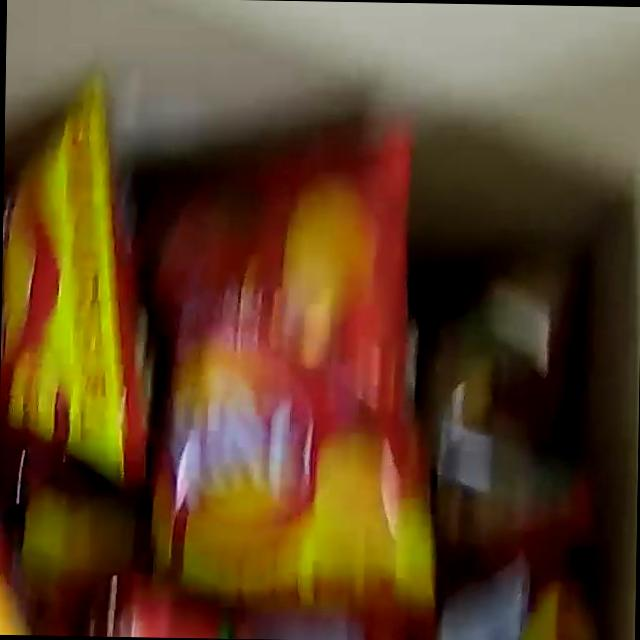masala: (0, 73, 622, 640)
